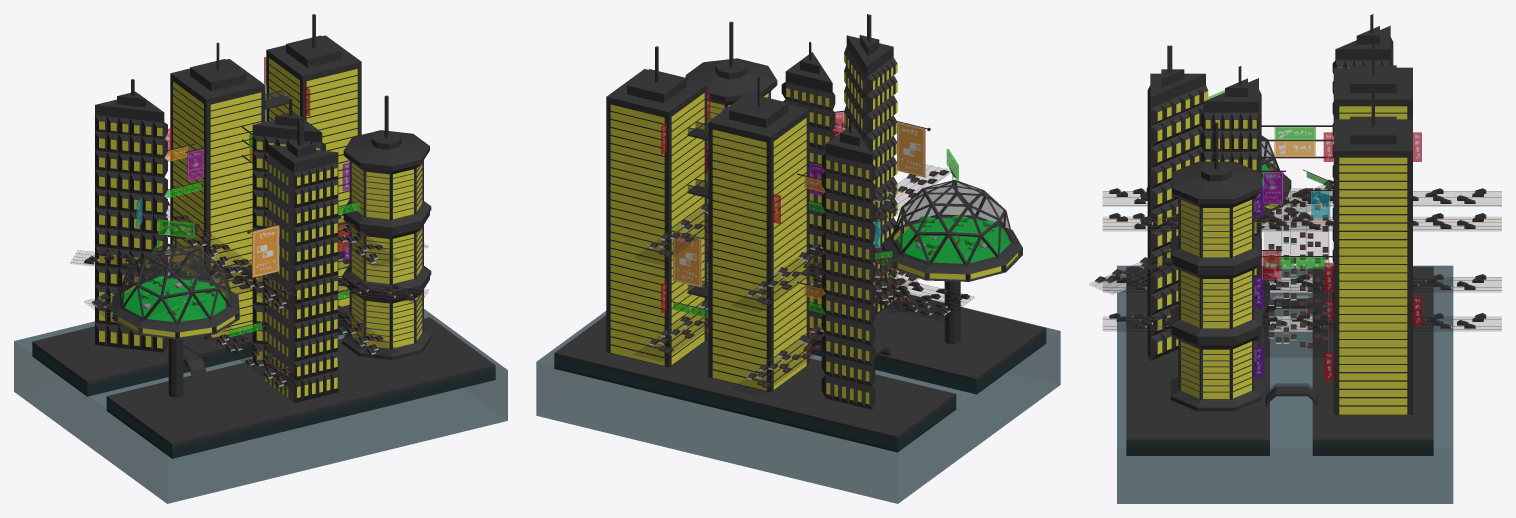
The model's file is city.gltf.
3 views of the same model, side by side, from view 1: azimuth 30°, elevation 25°; view 2: azimuth 150°, elevation 25°; view 3: azimuth 270°, elevation 25° (orthographic). The views are drawn at different scales.
Parts seen in each view (by area): view 1: node-0; view 2: node-0; view 3: node-0.
Boxes of the visible parts, x1,y1,x2,y2 form: node-0: [14, 14, 507, 503]; node-0: [536, 14, 1060, 503]; node-0: [1089, 14, 1501, 503].
Size of the model in its own units: 48.22 by 45.74 by 45.92.
Materials: 22 (10 with a texture image).
